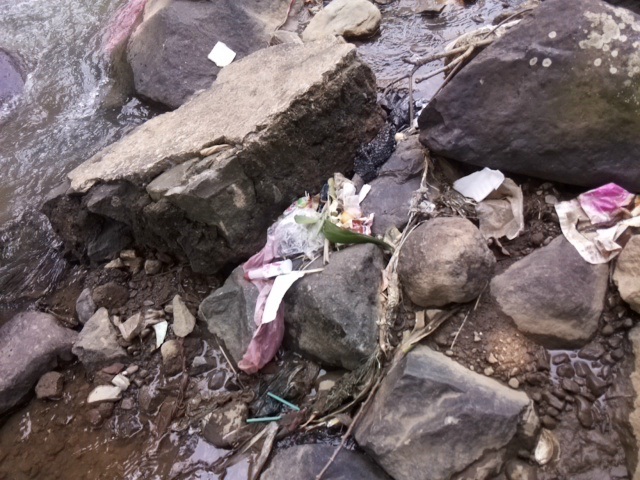Sampah_Plastik: (241, 172, 377, 380), (554, 178, 640, 264)
Sampah_Styrofoam: (451, 164, 508, 204), (204, 39, 239, 69)
